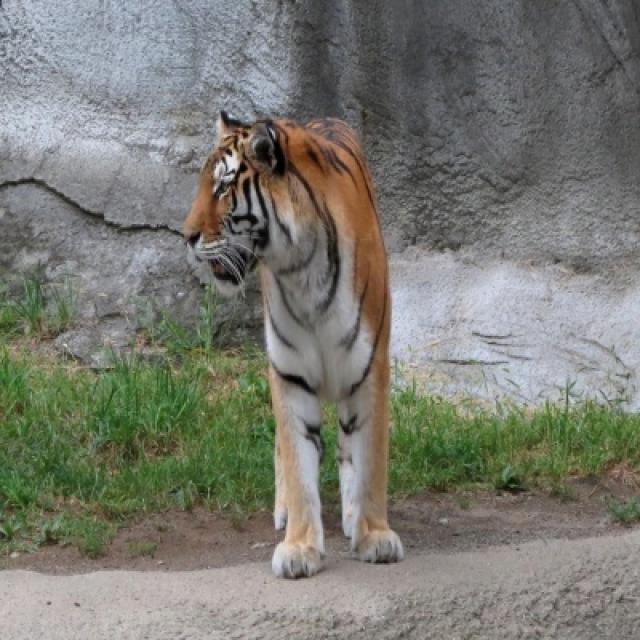Tiger: (184, 110, 402, 578)
